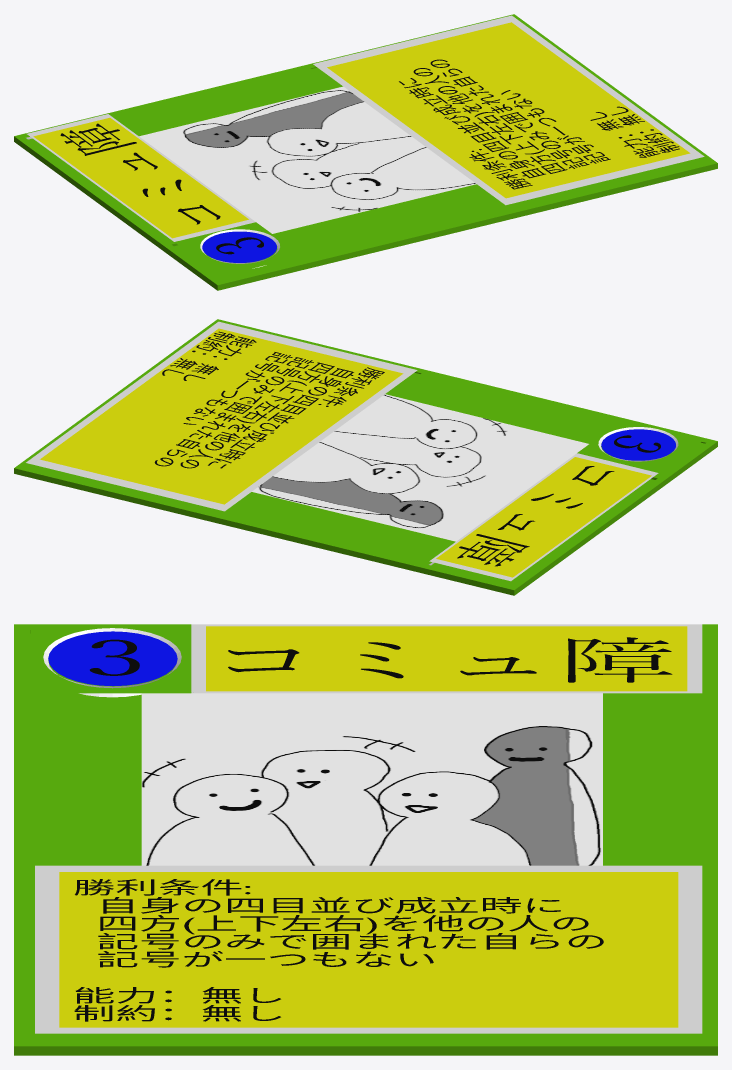
File: コミュ障緑.fbx
The picture shows the model from 3 angles, top to bottom: view 1: azimuth 30°, elevation 25°; view 2: azimuth 150°, elevation 25°; view 3: azimuth 270°, elevation 25°; orthographic projection. The views are drawn at different scales.
Parts seen in each view (by area): view 1: 説明欄, 平面.001, カード本体.001, 名前欄, 説明文, 円, 平面, 名前; view 2: 説明欄, 平面.001, カード本体.001, 名前欄, 説明文, 円, 平面, 名前; view 3: 説明欄, 平面.001, カード本体.001, 名前欄, 説明文, 円, 平面, 名前, コスト蘭.
Boxes of the visible parts, bbox=[...] form: 説明欄: bbox=[313, 15, 704, 205]; 平面.001: bbox=[139, 86, 476, 233]; カード本体.001: bbox=[14, 14, 717, 290]; 名前欄: bbox=[27, 114, 255, 241]; 説明文: bbox=[399, 59, 679, 189]; 円: bbox=[202, 231, 276, 262]; 平面: bbox=[174, 222, 302, 275]; 名前: bbox=[60, 123, 220, 224]; 説明欄: bbox=[26, 321, 417, 511]; 平面.001: bbox=[252, 394, 588, 541]; カード本体.001: bbox=[14, 319, 717, 595]; 名前欄: bbox=[429, 453, 658, 581]; 説明文: bbox=[154, 331, 384, 468]; 円: bbox=[601, 429, 675, 460]; 平面: bbox=[577, 419, 704, 472]; 名前: bbox=[457, 466, 614, 566]; 説明欄: bbox=[35, 865, 702, 1033]; 平面.001: bbox=[141, 693, 602, 865]; カード本体.001: bbox=[14, 624, 717, 1055]; 名前欄: bbox=[191, 624, 702, 693]; 説明文: bbox=[74, 879, 603, 1021]; 円: bbox=[48, 631, 177, 686]; 平面: bbox=[30, 624, 191, 693]; 名前: bbox=[228, 637, 672, 682]; コスト蘭: bbox=[43, 628, 181, 697].
Bounding box in the file's own units: 281 × 6.07 × 198.
